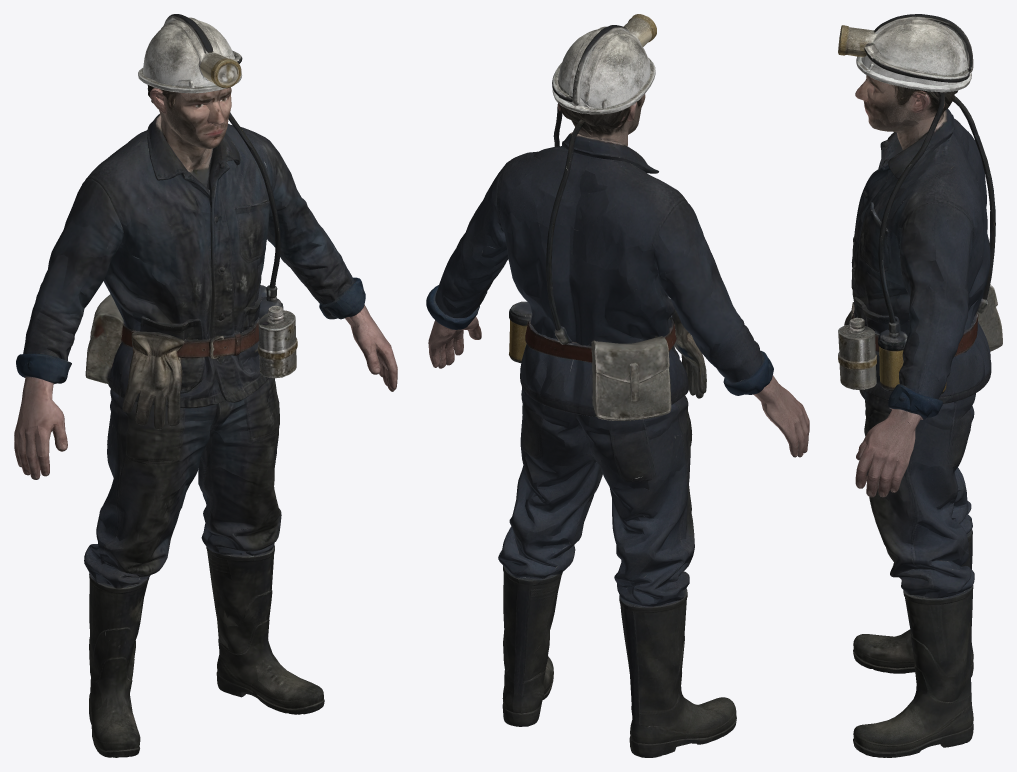
File: miner_hauer.glb
The picture shows the model from 3 angles, left to right: view 1: azimuth 30°, elevation 25°; view 2: azimuth 150°, elevation 25°; view 3: azimuth 270°, elevation 25°; orthographic projection.
Size of the model in its own units: 1.06 by 1.9 by 0.4109.
Materials: 1 (1 with a texture image).
